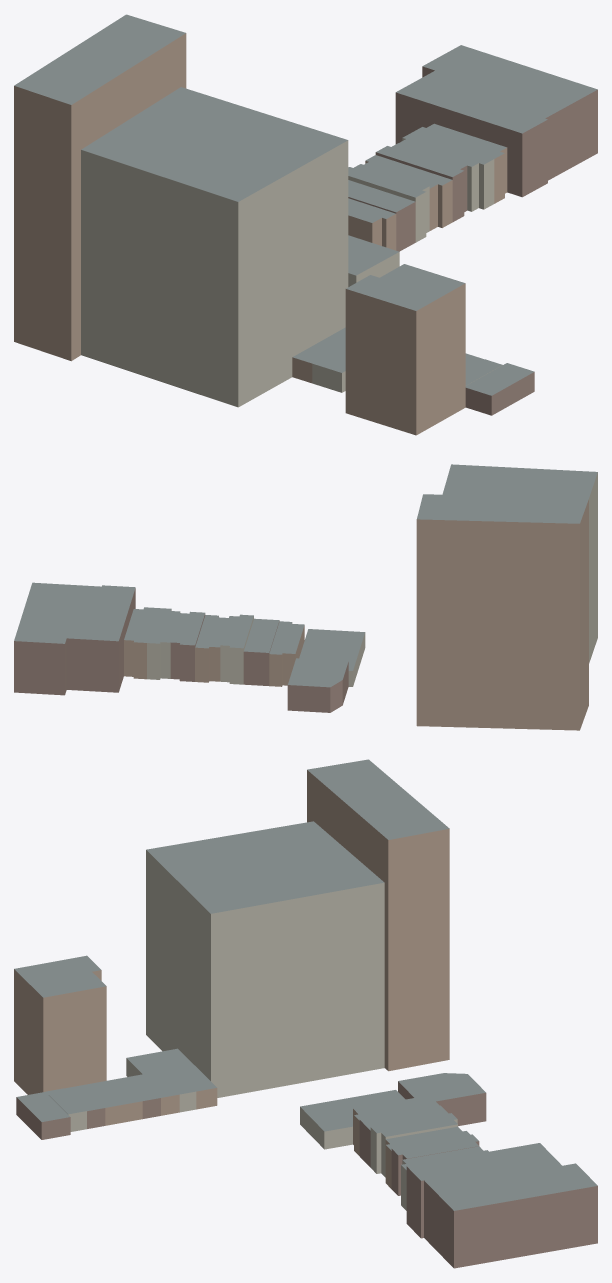
The model's file is context--2--1.gltf.
3 renders of one model, top to bottom at view 1: azimuth 30°, elevation 25°; view 2: azimuth 150°, elevation 25°; view 3: azimuth 270°, elevation 25°, orthographic. The views are drawn at different scales.
Visible parts, largest first — view 1: context--2--1; view 2: context--2--1; view 3: context--2--1.
Part boxes in pixels (left/top/right/bottom): context--2--1: left=14, top=14, right=597, bottom=435; context--2--1: left=14, top=464, right=597, bottom=730; context--2--1: left=14, top=759, right=597, bottom=1268.
Bounding box in the file's own units: 149 × 57.91 × 133.
